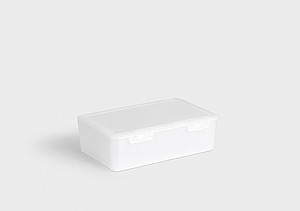PlasticBox: (75, 95, 218, 171)
